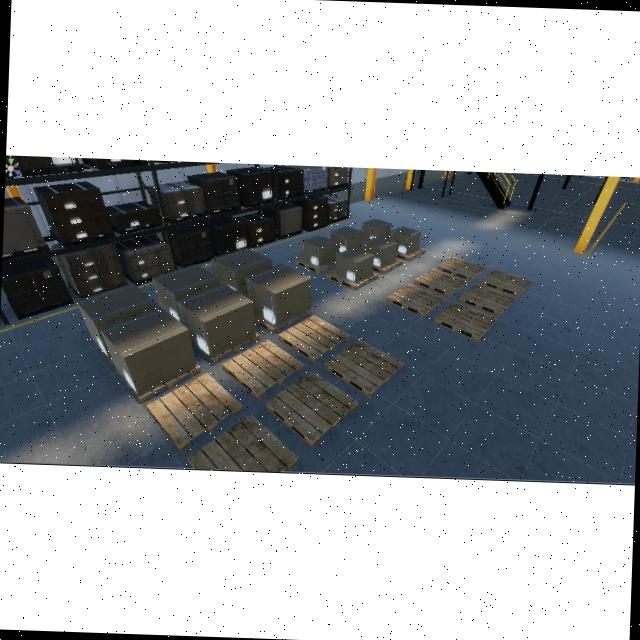wooden_pallet: (147, 372, 242, 452), (265, 370, 358, 448), (222, 339, 304, 398), (325, 339, 404, 397), (115, 363, 201, 404), (278, 315, 349, 363), (433, 301, 498, 342), (190, 331, 260, 364), (387, 283, 446, 318), (325, 268, 379, 290), (254, 312, 307, 333), (294, 257, 336, 274), (372, 257, 403, 274)
